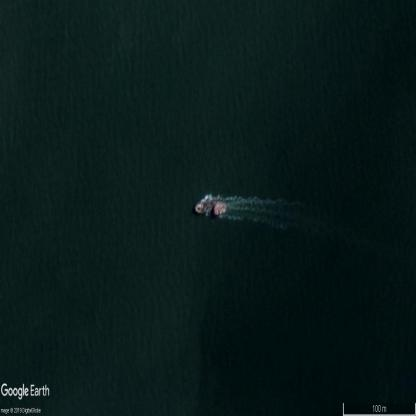ship: (194, 197, 227, 218)
